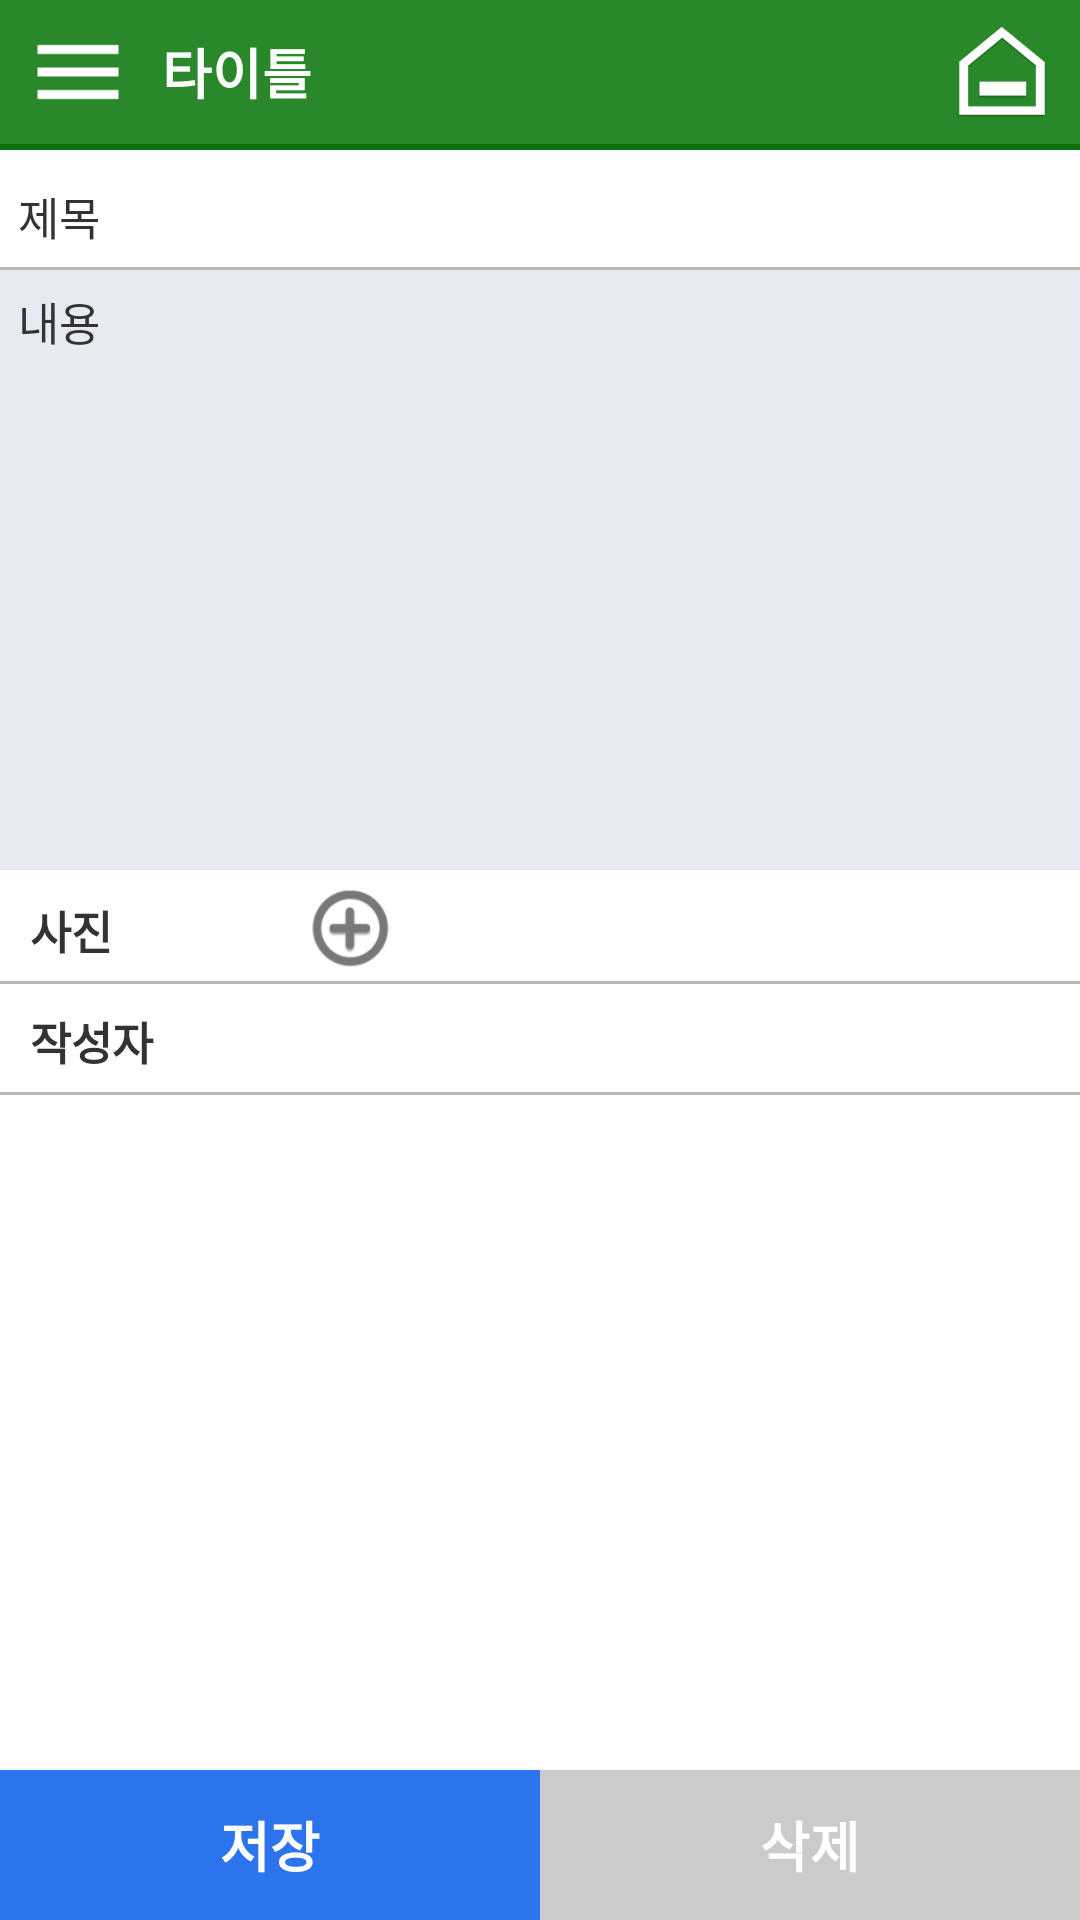

Icons on this 1080*1920 Android screen, each with the point to tap as (x,y):
add: (350,928)
menu: (78,72)
top home: (1002,71)
